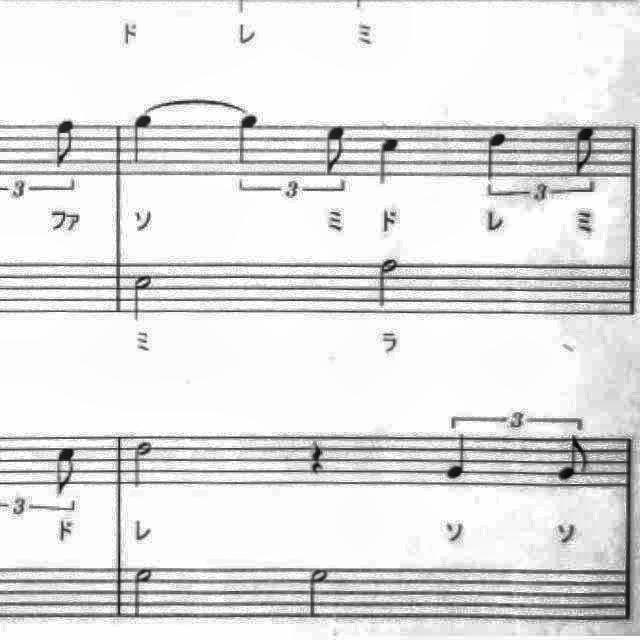Eighth-note: (550, 431, 594, 487), (316, 119, 354, 180), (49, 440, 86, 500), (566, 121, 602, 179), (50, 114, 84, 174)
Half-note: (298, 560, 338, 622), (371, 250, 405, 314), (128, 562, 160, 626), (127, 268, 161, 324), (128, 436, 158, 492)
Quarter-note: (371, 130, 409, 193), (230, 108, 266, 172), (478, 125, 514, 187), (439, 428, 477, 486), (126, 111, 160, 173)
Quarter-rest: (300, 435, 332, 483)
